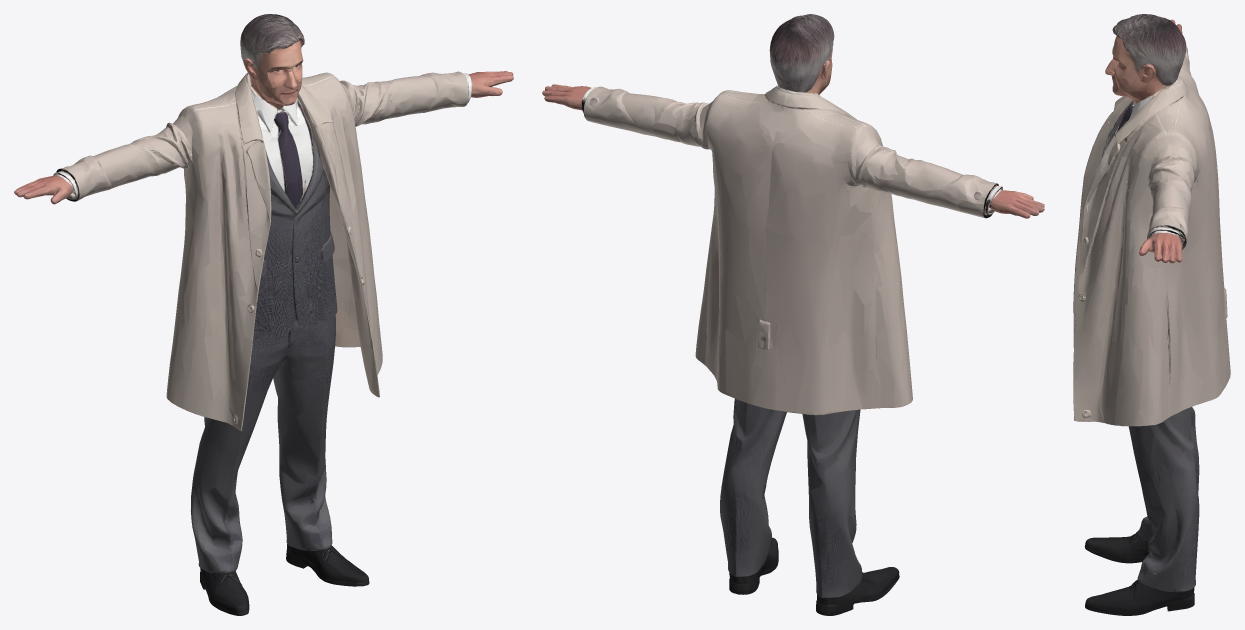
The model's file is ped_suit.glb.
The picture shows the model from 3 angles, left to right: view 1: azimuth 30°, elevation 25°; view 2: azimuth 150°, elevation 25°; view 3: azimuth 270°, elevation 25°; orthographic projection.
Visible parts, largest first — view 1: Mesh_0; view 2: Mesh_0; view 3: Mesh_0.
Part boxes in pixels (box(x1,y1,x2,y2)): Mesh_0: box(14, 14, 513, 615); Mesh_0: box(542, 14, 1044, 615); Mesh_0: box(1073, 14, 1230, 615).
Size of the model in its own units: 1.74 by 1.9 by 0.4796.
Materials: 1 (1 with a texture image).
